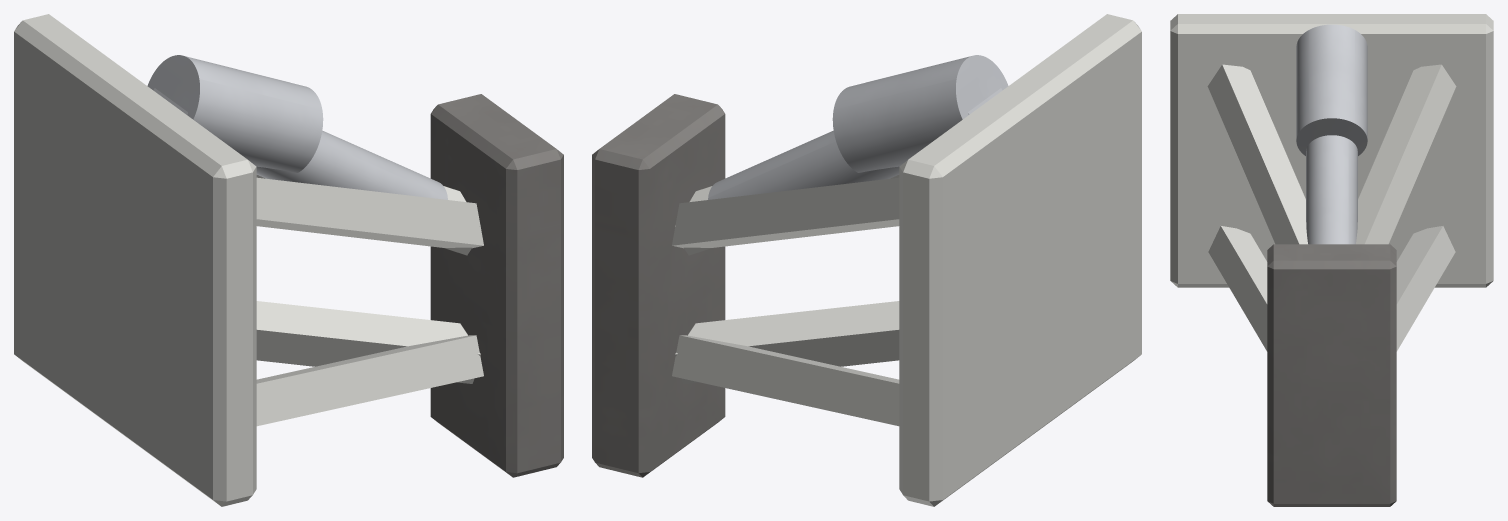
Rendered from ax_rover_18_active_suspension_susp_down.glb.
3 views of the same model, side by side, from view 1: azimuth 30°, elevation 25°; view 2: azimuth 150°, elevation 25°; view 3: azimuth 270°, elevation 25° (orthographic). The views are drawn at different scales.
Visible parts, largest first — view 1: mount_bracket, upright, arm_wishbones, damper; view 2: mount_bracket, upright, arm_wishbones, damper; view 3: mount_bracket, upright, arm_wishbones, damper.
Boxes of the visible parts, x1,y1,x2,y2 form: mount_bracket: (14,14,256,506); upright: (430,94,563,477); arm_wishbones: (256,175,483,426); damper: (147,55,447,199); mount_bracket: (899,14,1141,506); upright: (592,94,725,477); arm_wishbones: (672,175,899,426); damper: (708,55,1008,199); mount_bracket: (1170,14,1493,287); upright: (1267,244,1396,506); arm_wishbones: (1207,64,1456,351); damper: (1296,24,1367,244).
Size of the model in its own units: 0.57 by 0.6097 by 0.5.
Materials: 3 (2 with a texture image).
